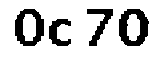0: (118, 6, 153, 51), (12, 7, 46, 47)
7: (83, 4, 115, 50)
c: (48, 15, 76, 48)
